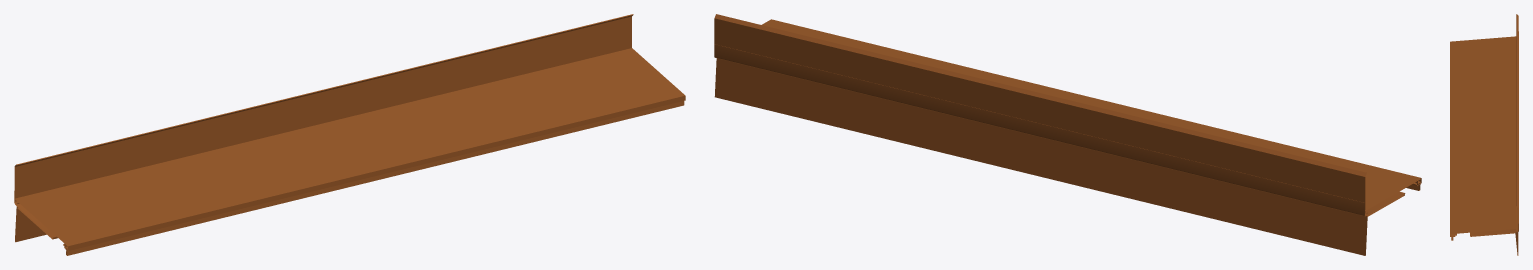
File: wandmetall_repeat.FBX
The picture shows the model from 3 angles, left to right: view 1: azimuth 30°, elevation 25°; view 2: azimuth 150°, elevation 25°; view 3: azimuth 270°, elevation 25°; orthographic projection. The views are drawn at different scales.
Parts seen in each view (by area): view 1: wandmetall_repeat; view 2: wandmetall_repeat; view 3: wandmetall_repeat.
Boxes of the visible parts, bbox=[...] form: wandmetall_repeat: bbox=[14, 14, 685, 255]; wandmetall_repeat: bbox=[714, 14, 1421, 255]; wandmetall_repeat: bbox=[1450, 14, 1518, 255].
Size of the model in its own units: 7.9 by 0.9566 by 1.2.
